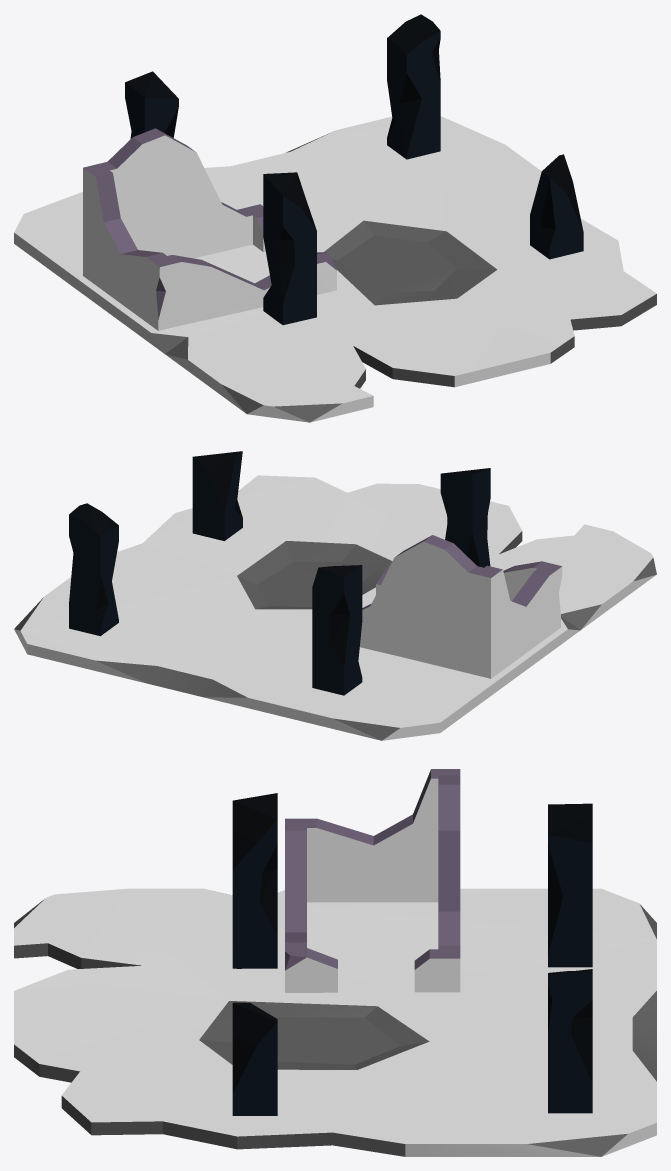
File: Blacksmith_Ruins.FBX
The picture shows the model from 3 angles, top to bottom: view 1: azimuth 30°, elevation 25°; view 2: azimuth 150°, elevation 25°; view 3: azimuth 270°, elevation 25°; orthographic projection. The views are drawn at different scales.
Parts seen in each view (by area): view 1: Base, Walls, Collum_04, Collum_02, Collum_01, Collum_03; view 2: Base, Walls, Collum_03, Collum_02, Collum_01, Collum_04; view 3: Base, Walls, Collum_04, Collum_03, Collum_02, Collum_01.
Part boxes in pixels (box(x1,y1,x2,y2)): Base: box(14, 116, 656, 422); Walls: box(83, 128, 336, 330); Collum_04: box(263, 172, 316, 325); Collum_02: box(387, 14, 440, 159); Collum_01: box(530, 154, 583, 259); Collum_03: box(125, 71, 178, 138); Base: box(14, 475, 656, 740); Walls: box(360, 535, 562, 678); Collum_03: box(312, 565, 362, 695); Collum_02: box(69, 503, 118, 636); Collum_01: box(192, 451, 242, 540); Collum_04: box(440, 468, 490, 567); Base: box(14, 888, 656, 1156); Walls: box(285, 769, 460, 992); Collum_04: box(232, 793, 277, 968); Collum_03: box(548, 803, 592, 967); Collum_02: box(548, 969, 592, 1113); Collum_01: box(232, 1002, 277, 1115).
Size of the model in its own units: 483 by 148 by 514.
